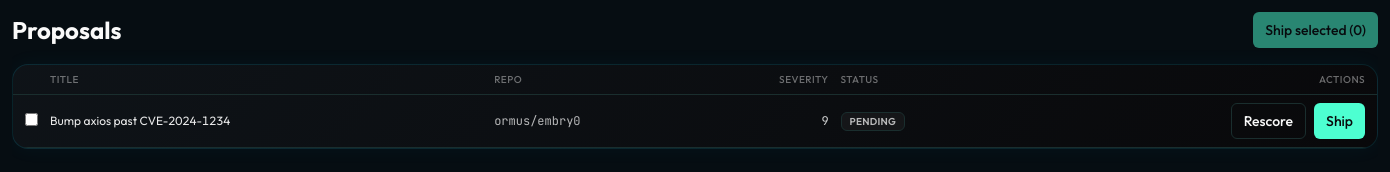
Test: ProposalsPage › ship action optimistically marks the row shipped before the mutation resolves
The width and height of the screenshot is (1390, 172).
Click the button with aria-label "Ship p-1".
click(1340, 121)  # box [1314,103,1365,139]
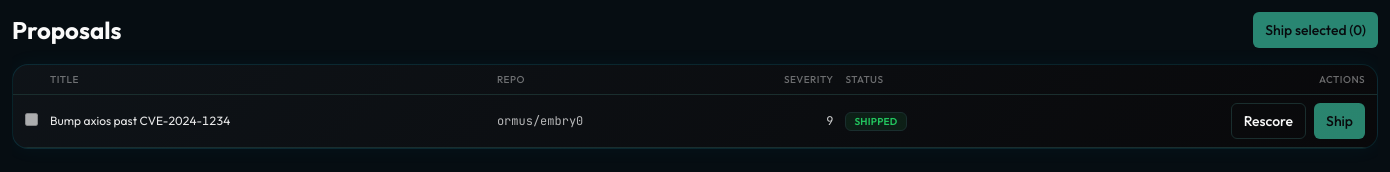
Expected: the row with test id "proposal-row-p-1" shows "shipped", [854,115,898,128]
